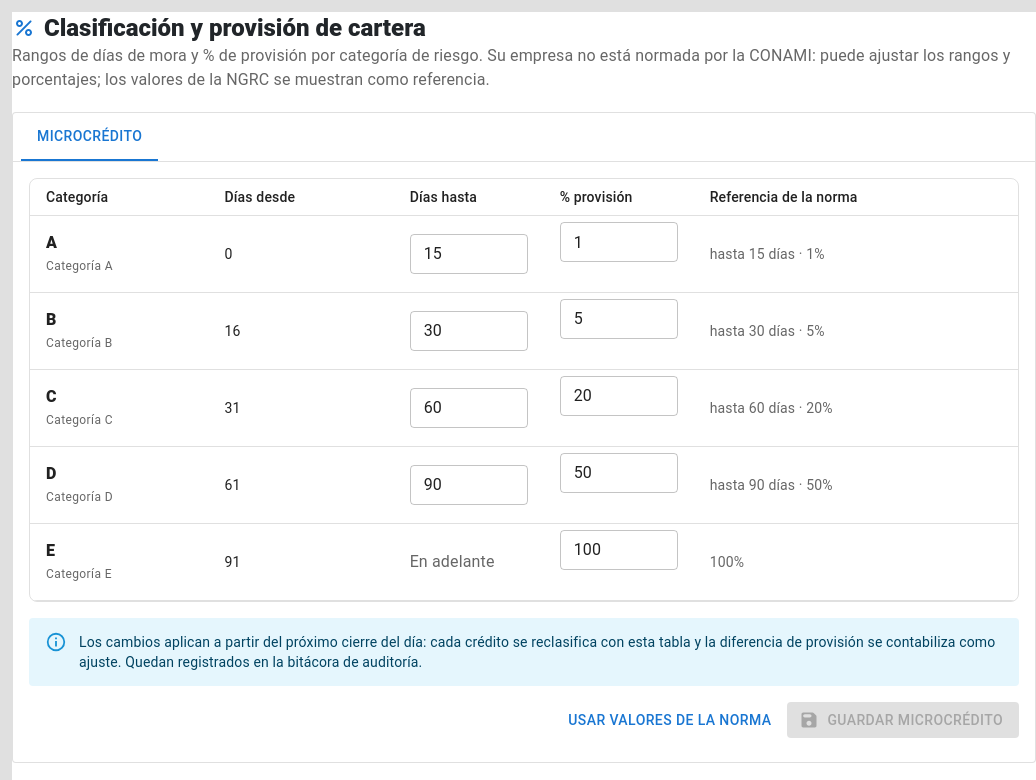
it: Provisión de cartera según si la empresa está normada › no normada: se puede editar por debajo de la norma y guardar
This screenshot has width=1036, height=780.
Check: the text "no está normada por la CONAMI" is shown, box x1=12 y1=46 x2=1010 y2=89
Replace the text in the 3rd number field with "3" at (619, 319), box x1=560 y1=299 x2=678 y2=339
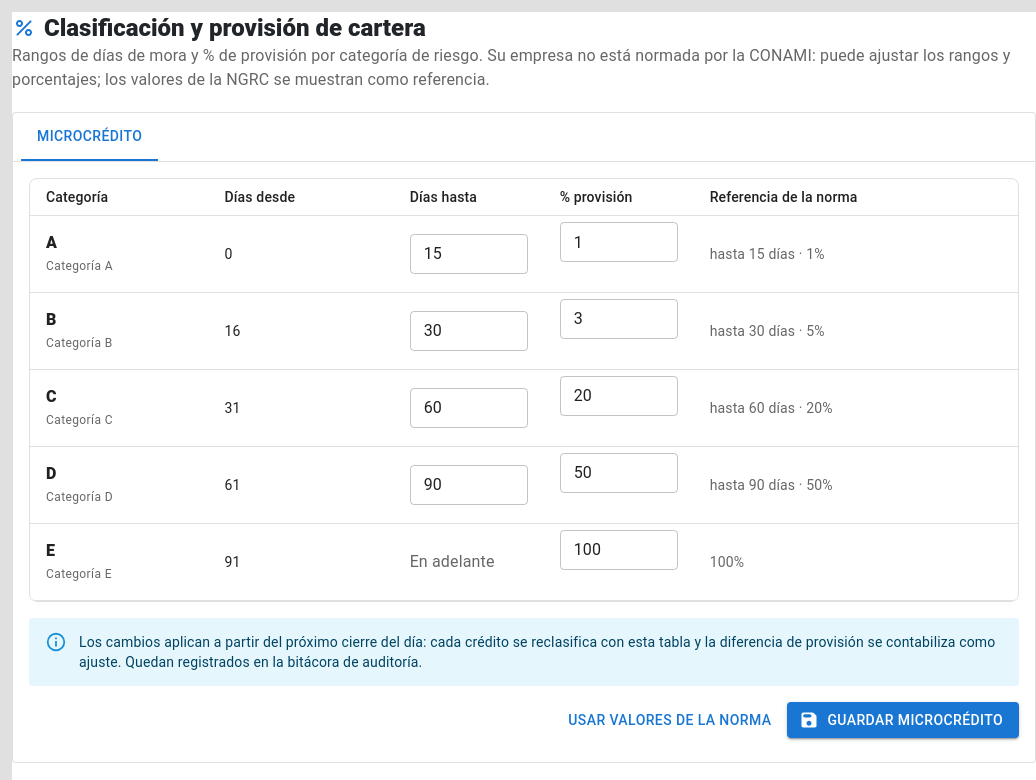
Check: the button "Guardar Microcrédito" is enabled
Click the button "Guardar Microcrédito" at (903, 720), box x1=787 y1=702 x2=1019 y2=738
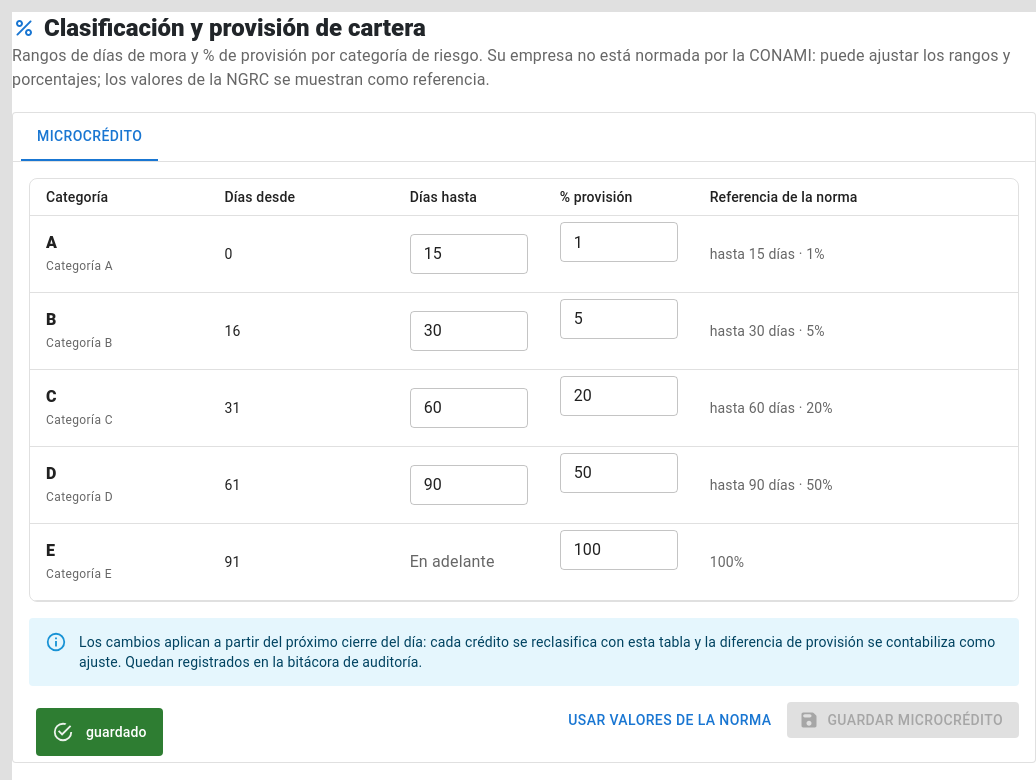
Check: the text "guardado" is shown, box x1=86 y1=724 x2=147 y2=740
